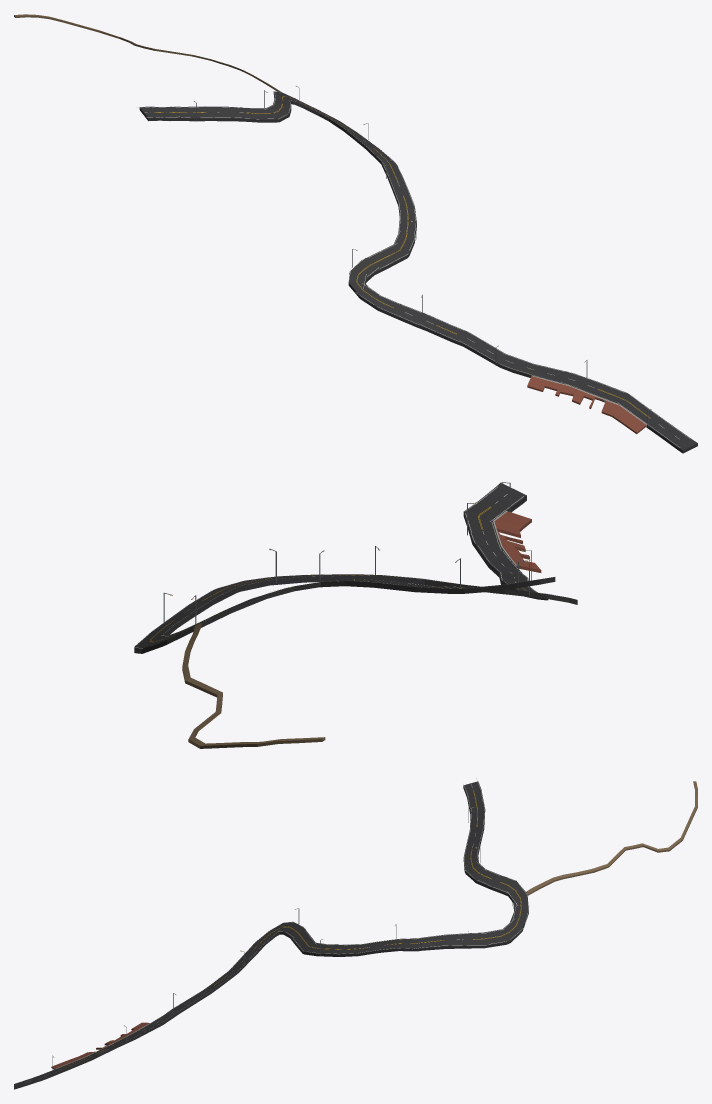
3 views of the same model, one above another, from view 1: azimuth 30°, elevation 25°; view 2: azimuth 150°, elevation 25°; view 3: azimuth 270°, elevation 25° (orthographic). The views are drawn at different scales.
Size of the model in its own units: 126 by 89.35 by 291.
